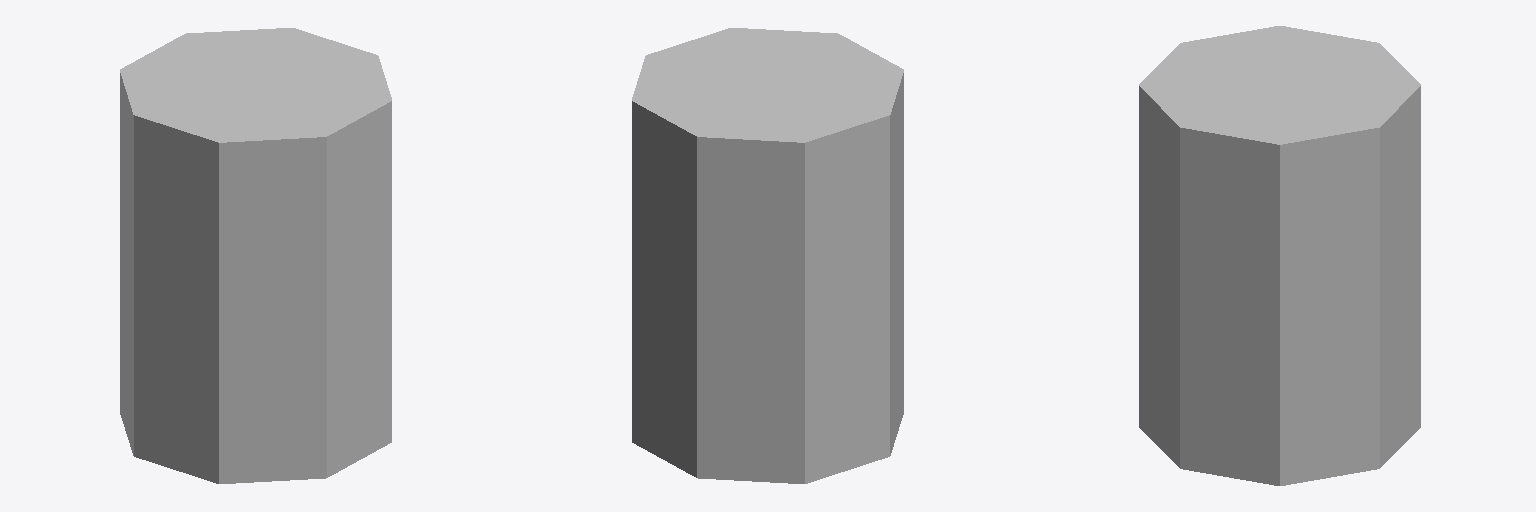
The model's file is pipe.obj.
3 renders of one model, left to right at view 1: azimuth 30°, elevation 25°; view 2: azimuth 150°, elevation 25°; view 3: azimuth 270°, elevation 25°, orthographic.
Visible parts, largest first — view 1: Side, Top; view 2: Side, Top; view 3: Side, Top.
Part boxes in pixels (left/top/right/bottom): Side: left=120, top=73, right=391, bottom=483; Top: left=120, top=28, right=391, bottom=142; Side: left=632, top=73, right=903, bottom=483; Top: left=632, top=28, right=903, bottom=142; Side: left=1139, top=86, right=1420, bottom=485; Top: left=1139, top=26, right=1420, bottom=144.
Bounding box in the file's own units: 0.75 × 1 × 0.75.